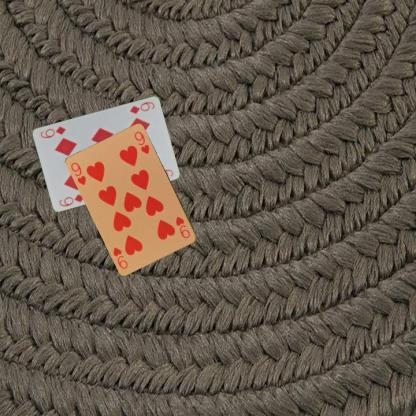6d: (127, 99, 156, 115), (57, 192, 86, 208)
9h: (68, 160, 88, 186), (174, 214, 192, 240)
